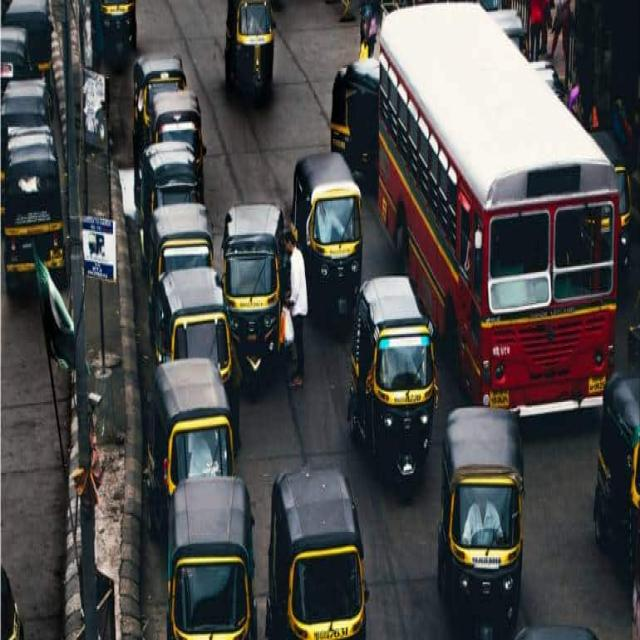autorickshaw: (438, 407, 524, 638), (348, 276, 438, 481), (266, 469, 369, 639), (156, 269, 240, 450), (149, 360, 236, 532), (168, 476, 256, 639), (595, 373, 640, 638), (291, 153, 361, 317), (222, 205, 284, 383)
bus: (379, 4, 620, 415)
